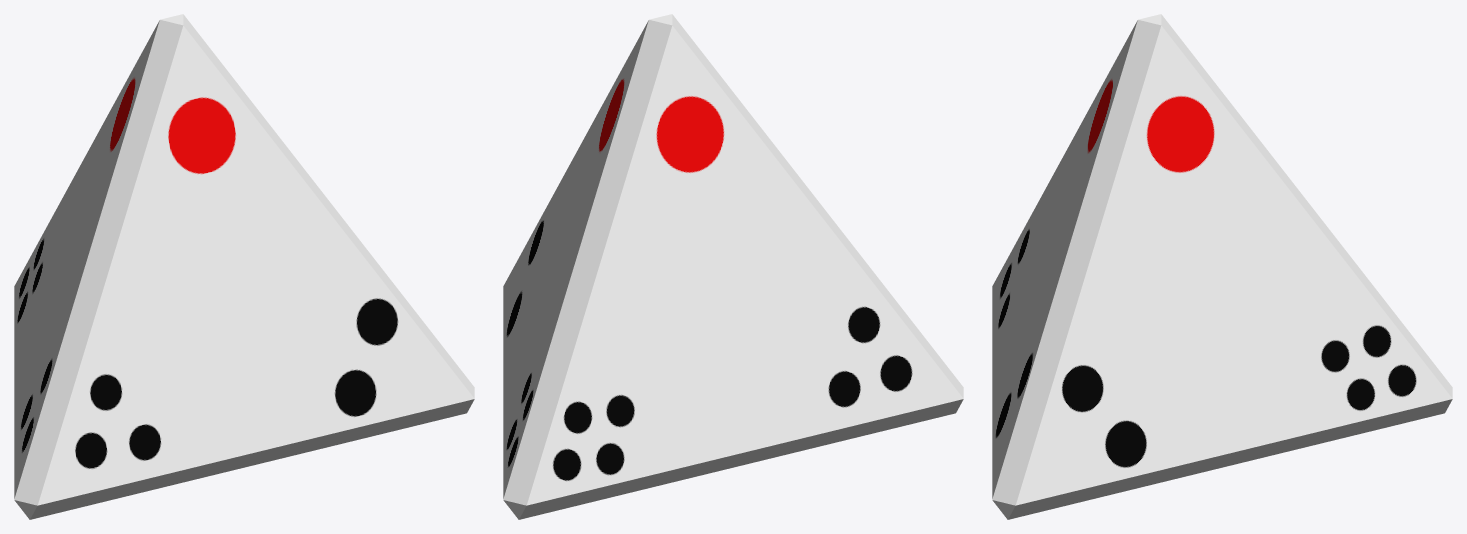
File: Dice04.glb
The picture shows the model from 3 angles, left to right: view 1: azimuth 30°, elevation 25°; view 2: azimuth 150°, elevation 25°; view 3: azimuth 270°, elevation 25°; orthographic projection.
Visible parts, largest first — view 1: Cone; view 2: Cone; view 3: Cone.
Part boxes in pixels (box(x1,y1,x2,y2)): Cone: box(14, 14, 474, 519); Cone: box(503, 14, 963, 519); Cone: box(992, 14, 1452, 519).
Bounding box in the file's own units: 0.1815 × 0.1482 × 0.1572.
1 material, 1 textured.
